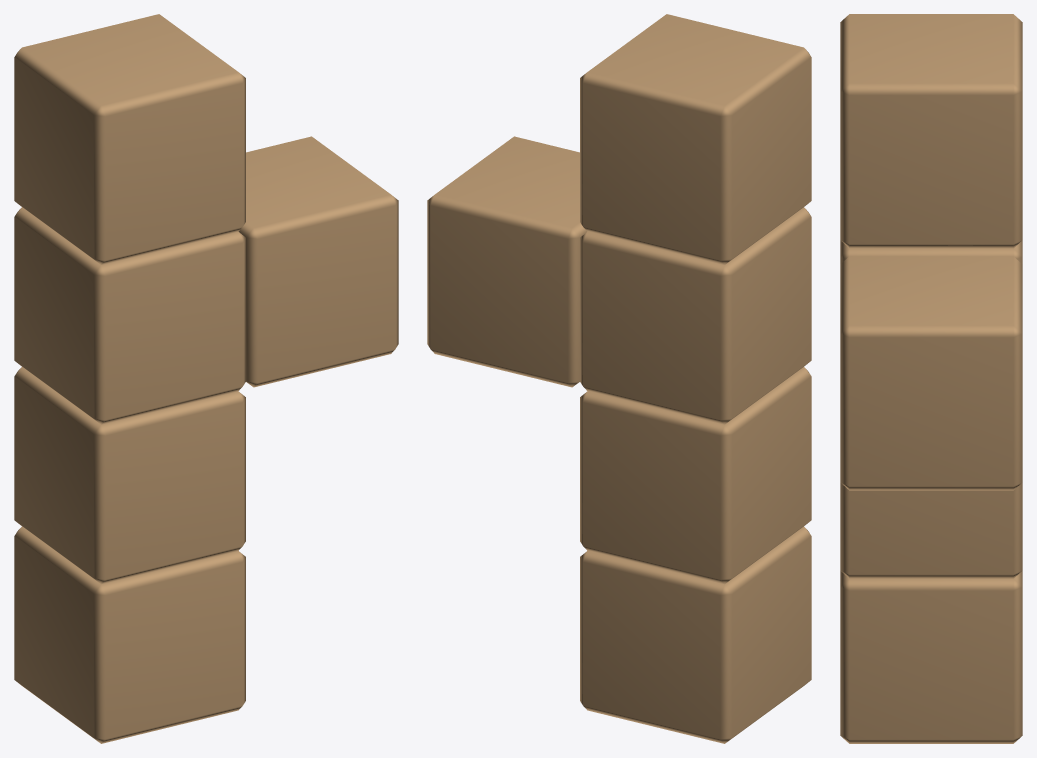
Rendered from FinNeutral5.fbx.
3 renders of one model, left to right at view 1: azimuth 30°, elevation 25°; view 2: azimuth 150°, elevation 25°; view 3: azimuth 270°, elevation 25°, orthographic. The views are drawn at different scales.
Visible parts, largest first — view 1: geo1; view 2: geo1; view 3: geo1.
Part boxes in pixels (x1,y1,x2,y2): geo1: [14, 14, 398, 743]; geo1: [427, 14, 811, 743]; geo1: [840, 14, 1022, 743].
Bounding box in the file's own units: 2 × 4 × 1.
